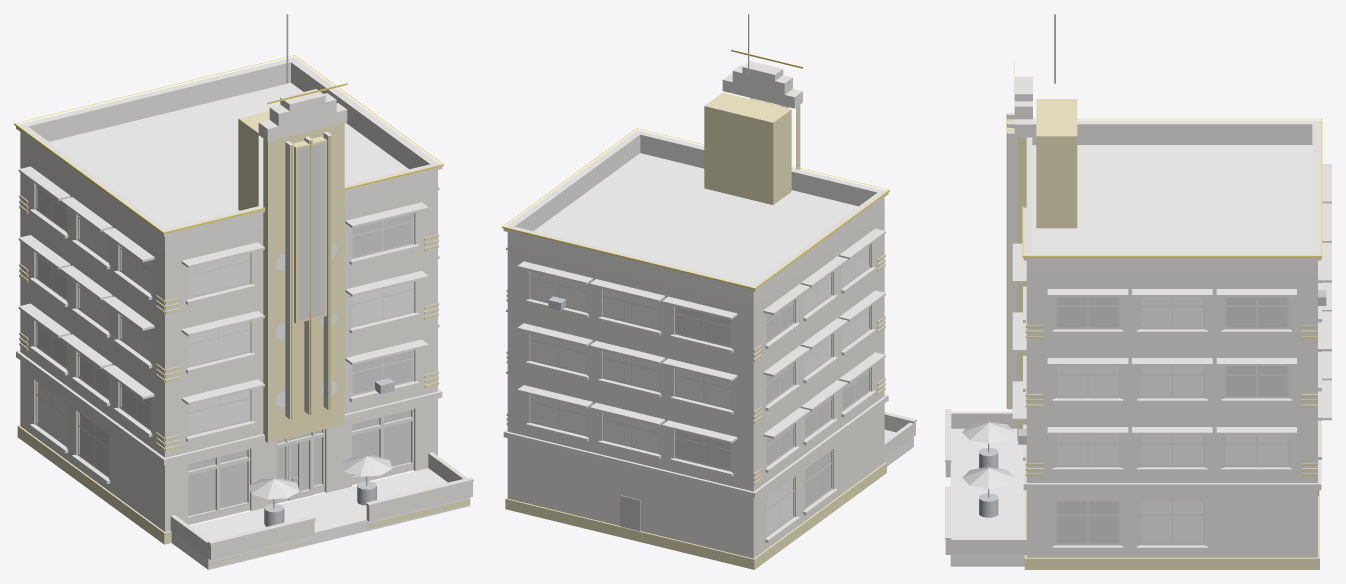
The model's file is deco_w50f3.glb.
3 views of the same model, side by side, from view 1: azimuth 30°, elevation 25°; view 2: azimuth 150°, elevation 25°; view 3: azimuth 270°, elevation 25° (orthographic). The views are drawn at different scales.
Parts seen in each view (by area): view 1: deco_w50f3_Walls, deco_w50f3_Trim, deco_w50f3_Accent, deco_w50f3_Roof, deco_w50f3_WindowsLit, deco_w50f3_Glass, deco_w50f3_Frames, deco_w50f3_Walls2, deco_w50f3_Brand, deco_w50f3_Neon, deco_w50f3_Awning, deco_w50f3_Details; view 2: deco_w50f3_Walls, deco_w50f3_Trim, deco_w50f3_Roof, deco_w50f3_Accent, deco_w50f3_Glass, deco_w50f3_WindowsLit, deco_w50f3_Frames, deco_w50f3_Neon, deco_w50f3_Details; view 3: deco_w50f3_Walls, deco_w50f3_Trim, deco_w50f3_Roof, deco_w50f3_Glass, deco_w50f3_Accent, deco_w50f3_WindowsLit, deco_w50f3_Walls2, deco_w50f3_Frames, deco_w50f3_Neon, deco_w50f3_Awning, deco_w50f3_Details.
Part boxes in pixels (x1,y1,x2,y2): deco_w50f3_Walls: (20,146,472,560); deco_w50f3_Trim: (16,57,473,545); deco_w50f3_Accent: (17,111,470,567); deco_w50f3_Roof: (49,83,408,228); deco_w50f3_WindowsLit: (37,185,412,516); deco_w50f3_Glass: (37,216,412,444); deco_w50f3_Frames: (35,184,414,519); deco_w50f3_Walls2: (171,468,470,569); deco_w50f3_Brand: (298,143,324,320); deco_w50f3_Neon: (14,55,443,419); deco_w50f3_Awning: (248,455,392,499); deco_w50f3_Details: (264,14,394,526); deco_w50f3_Walls: (507,210,915,558); deco_w50f3_Trim: (503,61,916,542); deco_w50f3_Roof: (534,153,858,284); deco_w50f3_Accent: (505,92,913,569); deco_w50f3_Glass: (531,246,868,535); deco_w50f3_WindowsLit: (676,301,868,507); deco_w50f3_Frames: (530,245,870,536); deco_w50f3_Neon: (502,49,889,289); deco_w50f3_Details: (548,14,749,531); deco_w50f3_Walls: (945,276,1317,557); deco_w50f3_Trim: (945,76,1331,550); deco_w50f3_Roof: (1032,145,1312,253); deco_w50f3_Glass: (1057,297,1287,543); deco_w50f3_Accent: (950,99,1319,569); deco_w50f3_WindowsLit: (1057,297,1287,543); deco_w50f3_Walls2: (950,428,1026,566); deco_w50f3_Frames: (1055,297,1289,545); deco_w50f3_Neon: (1006,59,1322,408); deco_w50f3_Awning: (962,421,1014,489); deco_w50f3_Details: (979,14,1326,517).
Size of the model in its own units: 54.4 by 85 by 61.1.
